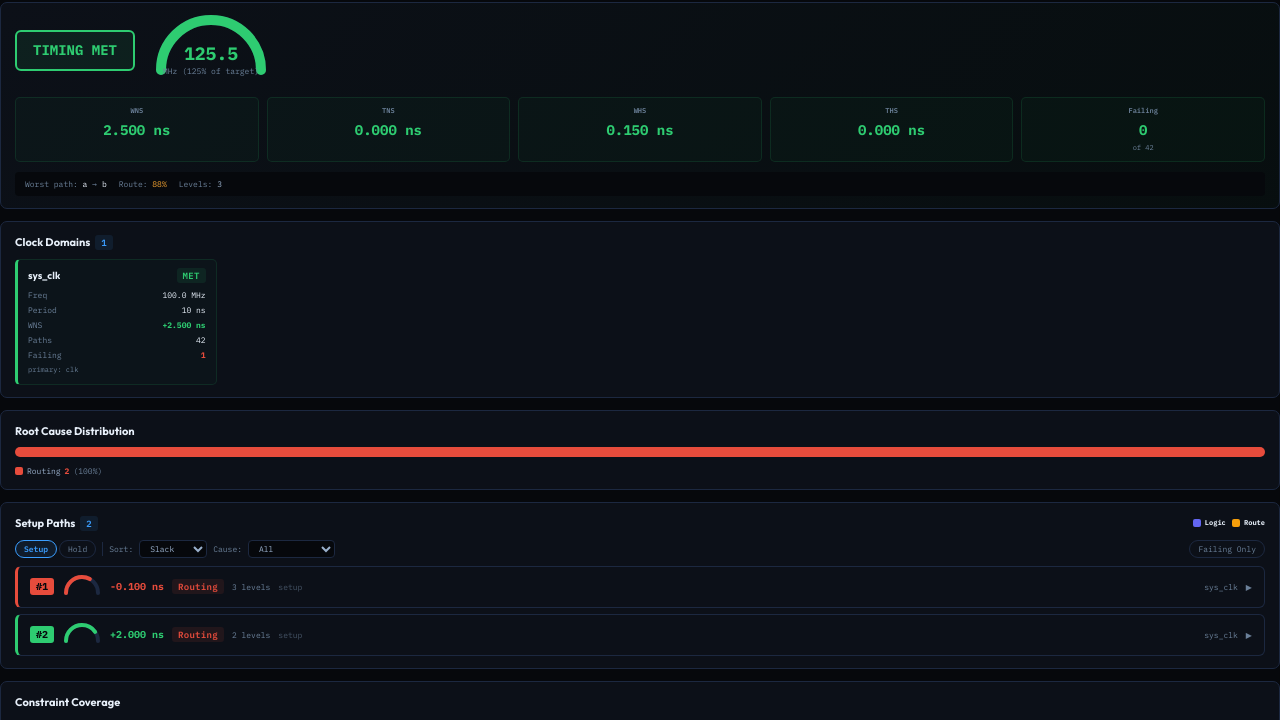
Test: TimingAnalyzer › filters to show only failing paths when toggled
Click the text "Failing Only": [1227, 548] box [1189,540,1265,558]
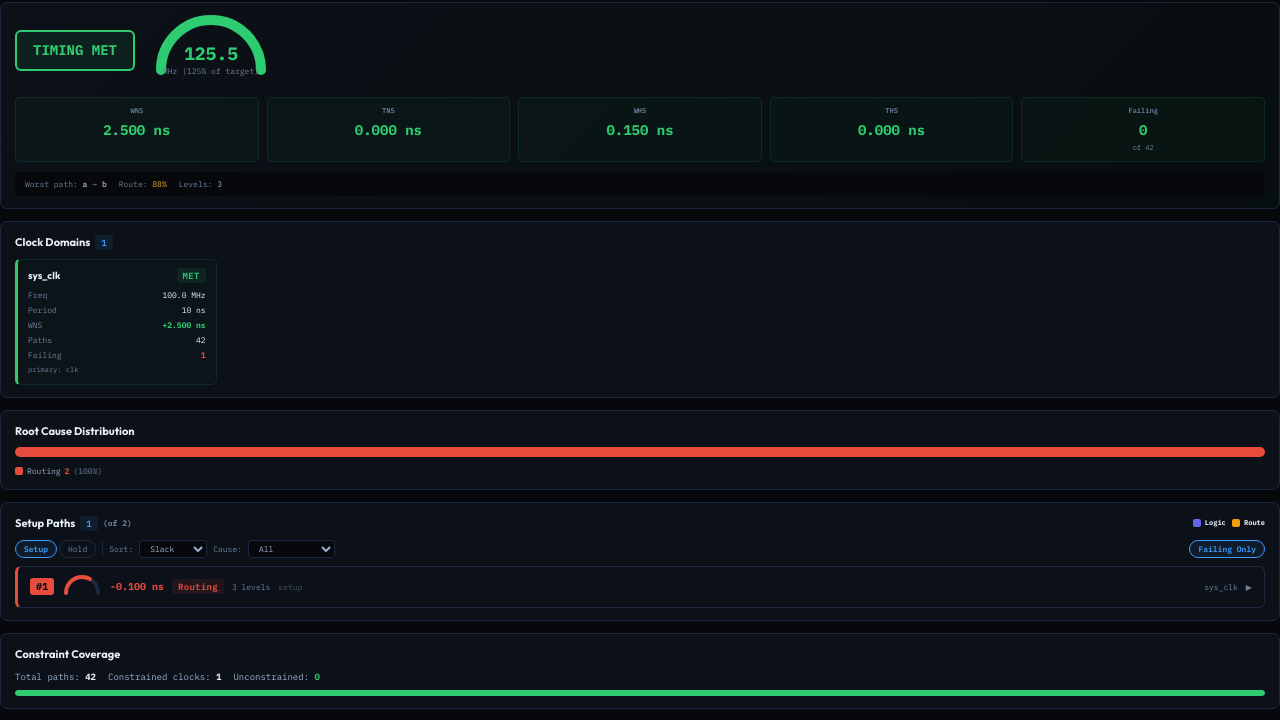
Expected: the text "#1" is shown, [30,578,54,595]
Result: the text "#2" is gone
